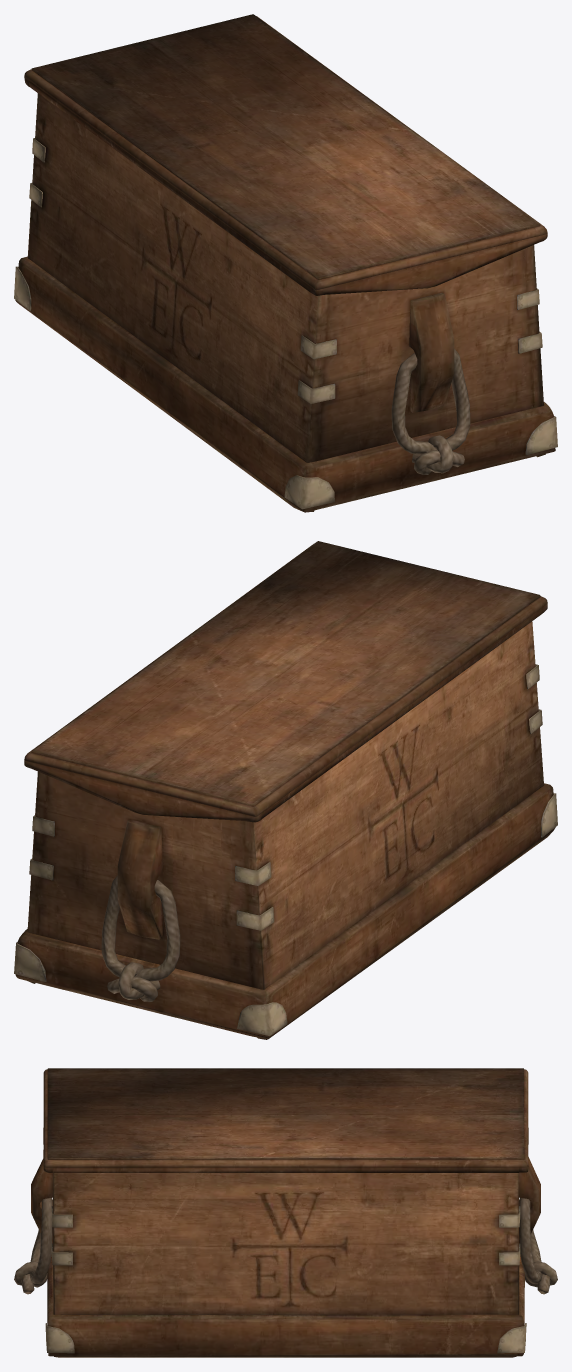
The model's file is wooden_crate_02.glb.
3 views of the same model, one above another, from view 1: azimuth 30°, elevation 25°; view 2: azimuth 150°, elevation 25°; view 3: azimuth 270°, elevation 25° (orthographic). The views are drawn at different scales.
Visible parts, largest first — view 1: wooden_crate_02_crate, wooden_crate_02_lid; view 2: wooden_crate_02_crate, wooden_crate_02_lid; view 3: wooden_crate_02_crate, wooden_crate_02_lid.
Part boxes in pixels (x1,y1,x2,y2): wooden_crate_02_crate: (14, 93, 557, 512); wooden_crate_02_lid: (24, 14, 547, 295); wooden_crate_02_crate: (14, 621, 557, 1039); wooden_crate_02_lid: (24, 541, 547, 822); wooden_crate_02_crate: (14, 1157, 557, 1357); wooden_crate_02_lid: (43, 1068, 528, 1172).
Size of the model in its own units: 0.5291 by 0.4639 by 1.17.
Materials: 1 (1 with a texture image).
